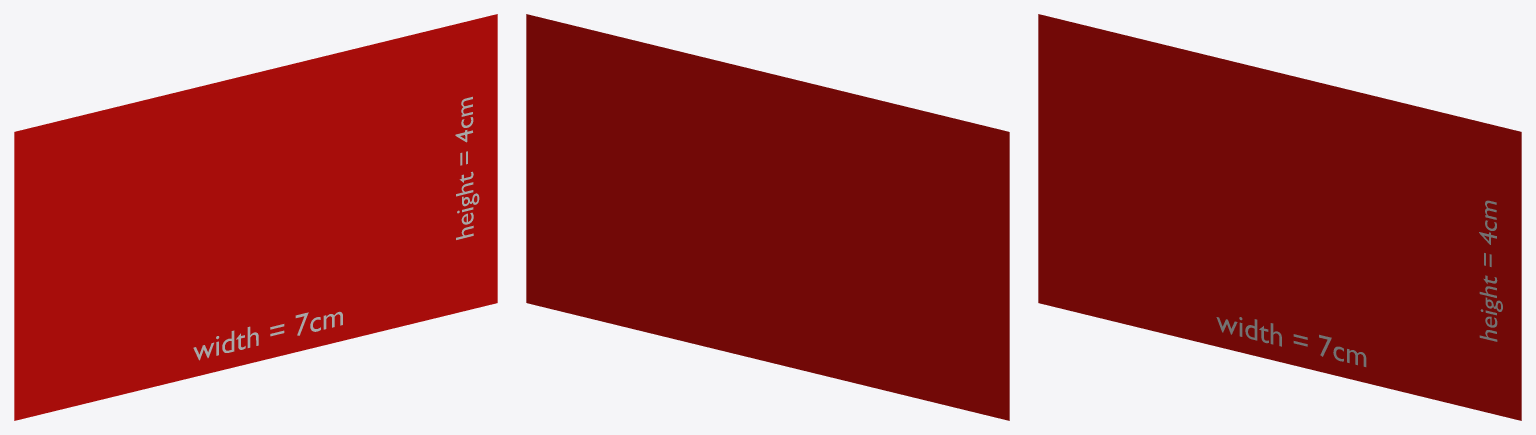
The model's file is rect7x4.glb.
3 renders of one model, left to right at view 1: azimuth 30°, elevation 25°; view 2: azimuth 150°, elevation 25°; view 3: azimuth 330°, elevation 25°, orthographic.
Visible parts, largest first — view 1: Plane, width, height; view 2: Plane; view 3: Plane, width, height.
Boxes of the visible parts, x1,y1,x2,y2 form: Plane: (14,14,497,420); width: (193,311,342,360); height: (455,96,479,239); Plane: (526,14,1009,420); Plane: (1038,14,1521,420); width: (1216,317,1366,366); height: (1479,200,1502,341).
Bounding box in the file's own units: 0.7 × 0.4 × 0.00113.
